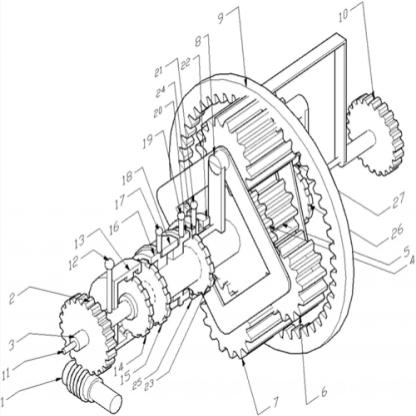FOD: (268, 229, 329, 326)
